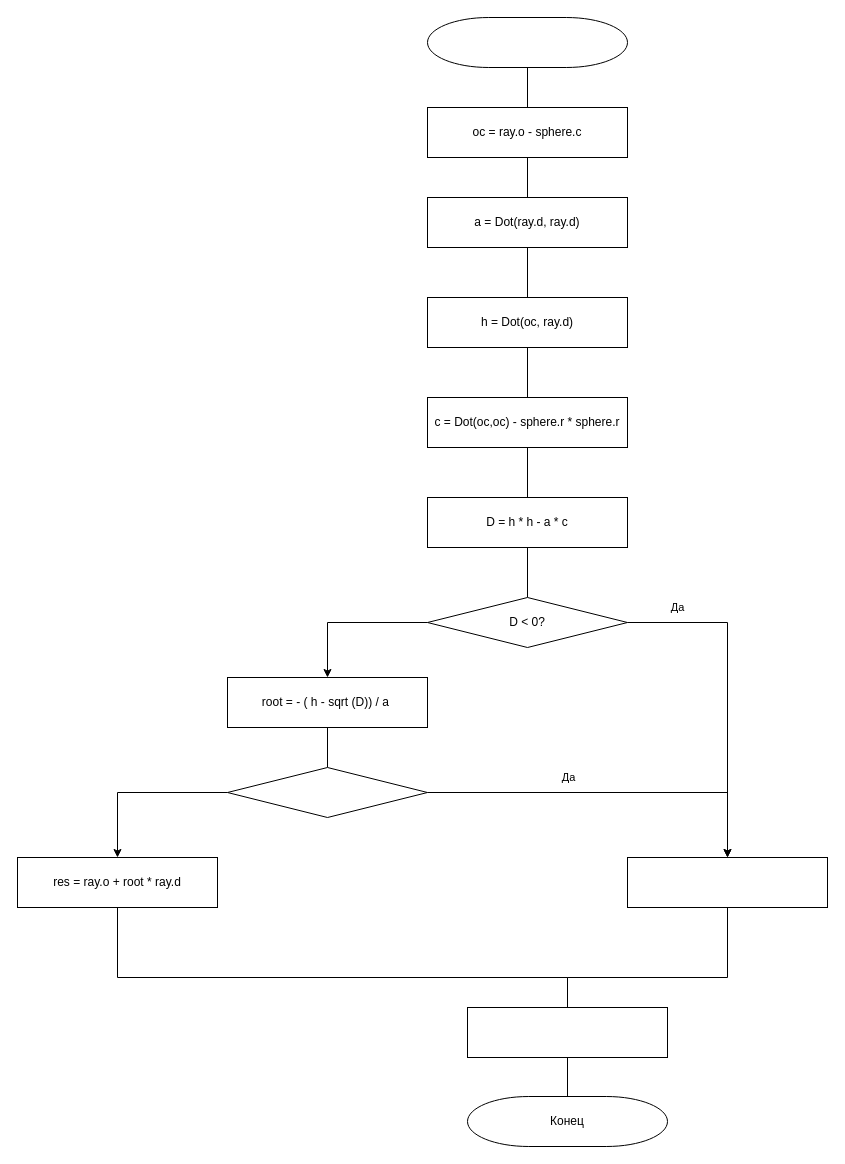
This 845x1164 diagram has some shape labels left out. Each missing label, with the centre of its shape:
"res = null" belongs at point 727,882.
"root < 0?" belongs at point 327,792.
"Вернуть res" belongs at point 567,1032.
"Начало" belongs at point 527,42.
